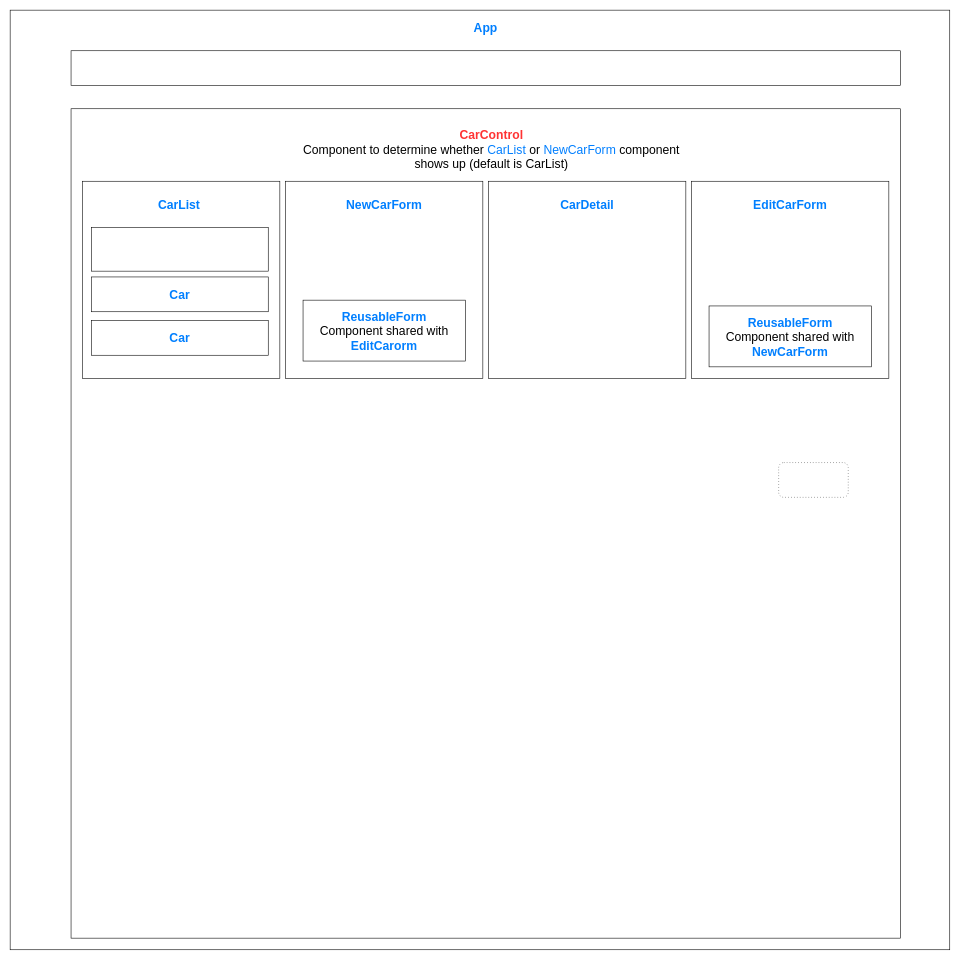
Some shapes in this 960 by 960 pixel diagram are drawn without their labels. Here are the shapes that lost their labels. From the top down, the centre of each, then its label:
At pixel 485 68: "Header".
At pixel 179 249: "Car Clicking on Car will show Car's CarDetails Component".
At pixel 813 479: "Stateful".
